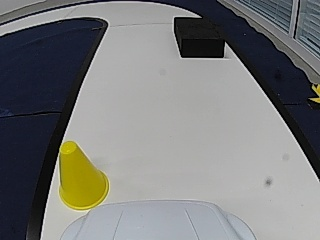block: (173, 16, 226, 58)
cone: (57, 141, 109, 210)
